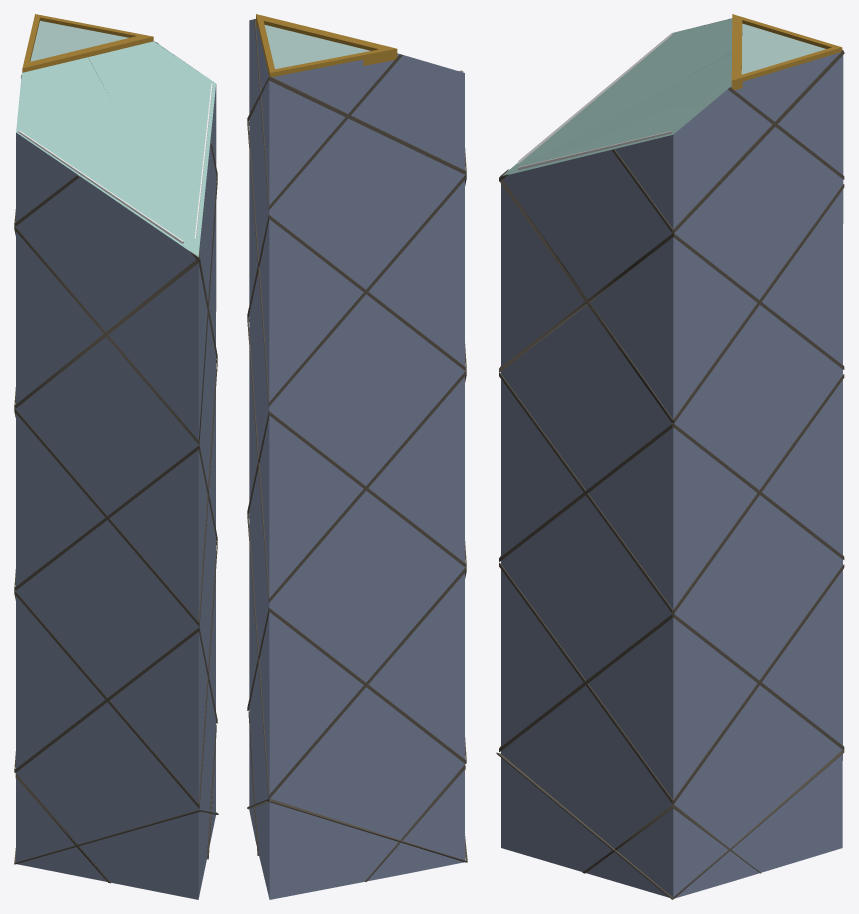
The model's file is city - chicago build.fbx.
3 renders of one model, left to right at view 1: azimuth 30°, elevation 25°; view 2: azimuth 150°, elevation 25°; view 3: azimuth 270°, elevation 25°, orthographic. The views are drawn at different scales.
Parts seen in each view (by area): view 1: Window, Black_Strip, Top_01, White_Strip; view 2: Window, Black_Strip, Top_01; view 3: Window, Black_Strip, Top_01, White_Strip.
Boxes of the visible parts, bbox=[...] form: Window: bbox=[16, 41, 216, 899]; Black_Strip: bbox=[14, 42, 218, 883]; Top_01: bbox=[22, 14, 153, 72]; White_Strip: bbox=[18, 83, 212, 243]; Window: bbox=[249, 19, 464, 899]; Black_Strip: bbox=[247, 19, 467, 881]; Top_01: bbox=[256, 14, 397, 76]; Window: bbox=[501, 18, 843, 898]; Black_Strip: bbox=[496, 18, 844, 899]; Top_01: bbox=[731, 14, 842, 90]; White_Strip: bbox=[518, 33, 672, 170].
Size of the model in its own units: 19.57 by 70.06 by 27.65.
